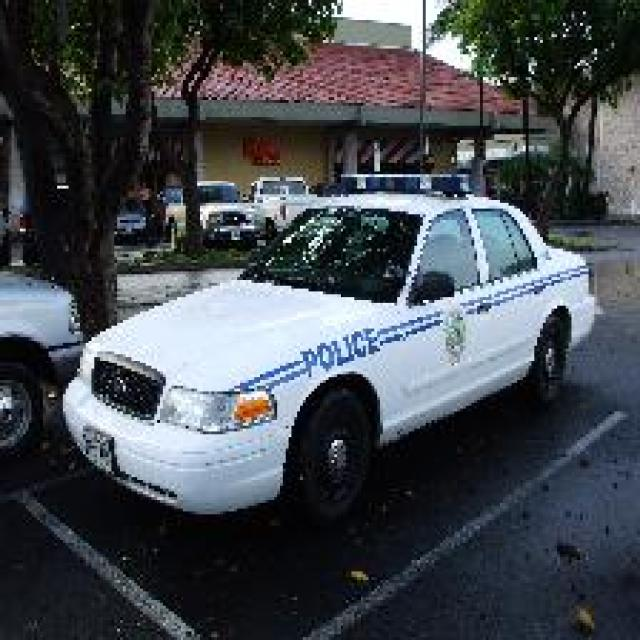Police-car: (60, 168, 597, 526)
